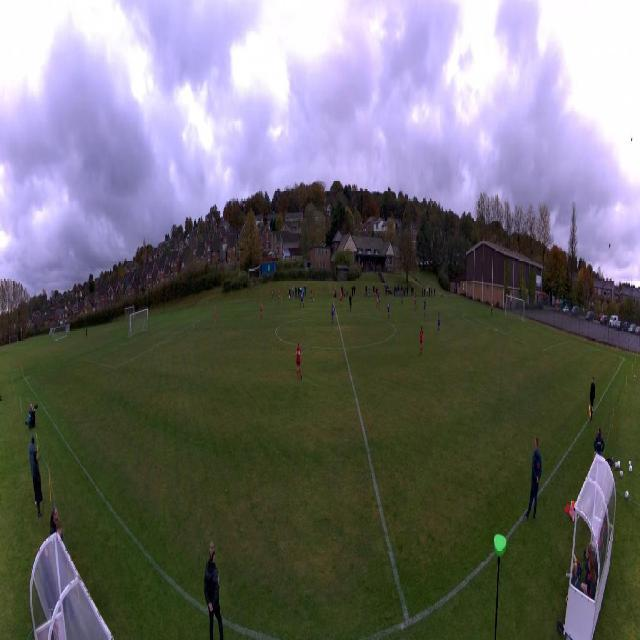ball: (312, 298, 314, 302)
player: (296, 341, 302, 380), (419, 324, 423, 355), (300, 292, 305, 309), (331, 304, 335, 324), (438, 311, 441, 335), (339, 290, 343, 308), (348, 293, 352, 311), (260, 300, 263, 320), (423, 297, 426, 317), (377, 290, 381, 305), (387, 301, 390, 320), (309, 289, 313, 303), (376, 293, 379, 310), (332, 288, 336, 300), (278, 290, 281, 306), (401, 289, 404, 305), (374, 287, 377, 302), (414, 293, 416, 311), (214, 305, 216, 321), (491, 301, 493, 317), (368, 288, 370, 300)
